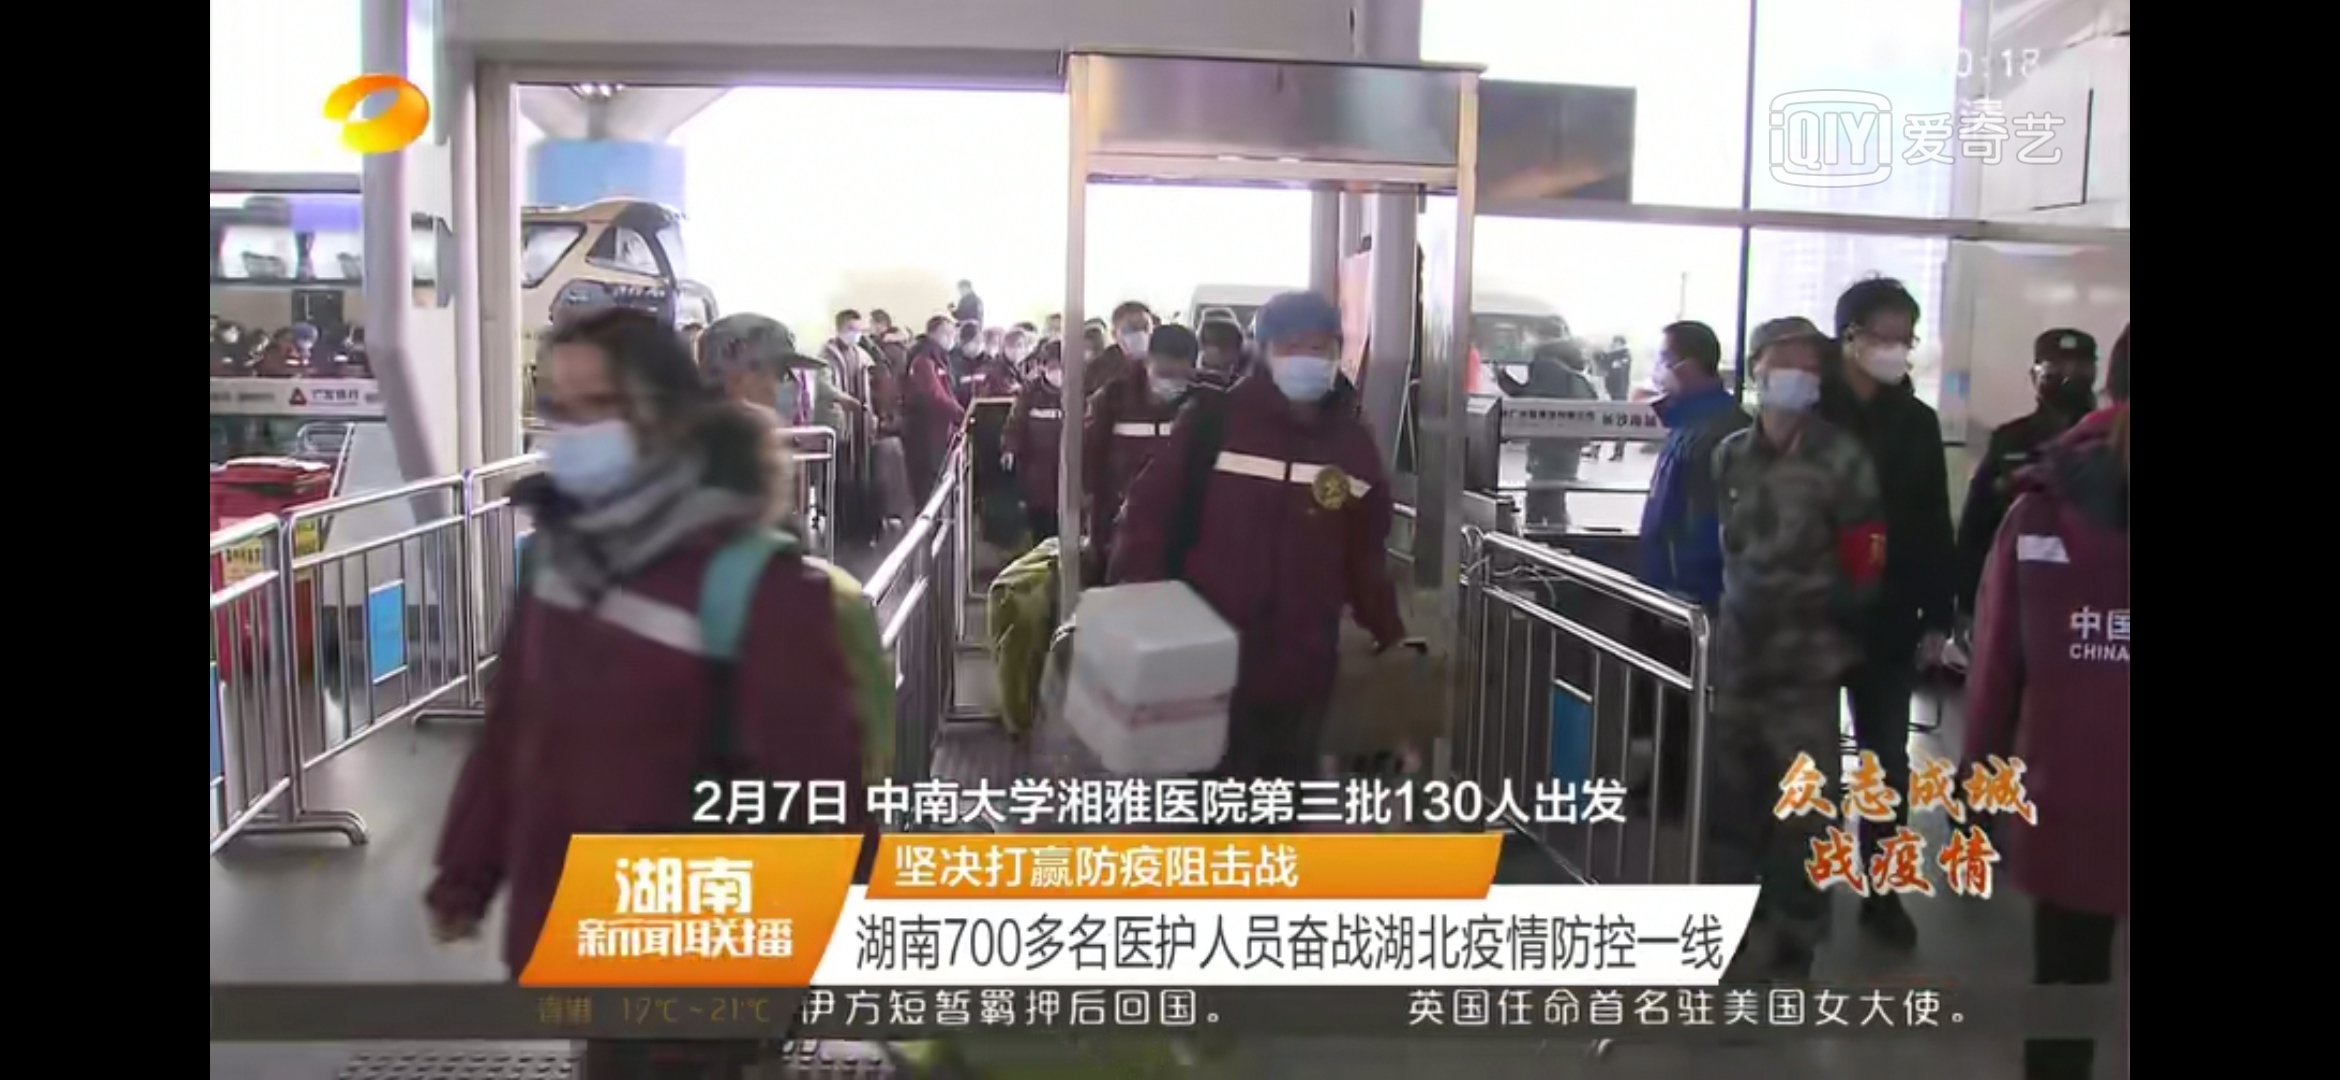correctlyWear: (527, 370, 666, 510), (1260, 321, 1352, 410), (1749, 345, 1822, 430), (1845, 316, 1916, 398), (2034, 360, 2095, 407), (1654, 349, 1703, 403), (1110, 312, 1151, 362), (1149, 349, 1189, 397), (837, 318, 863, 346), (1001, 336, 1027, 362), (1045, 352, 1063, 386)
